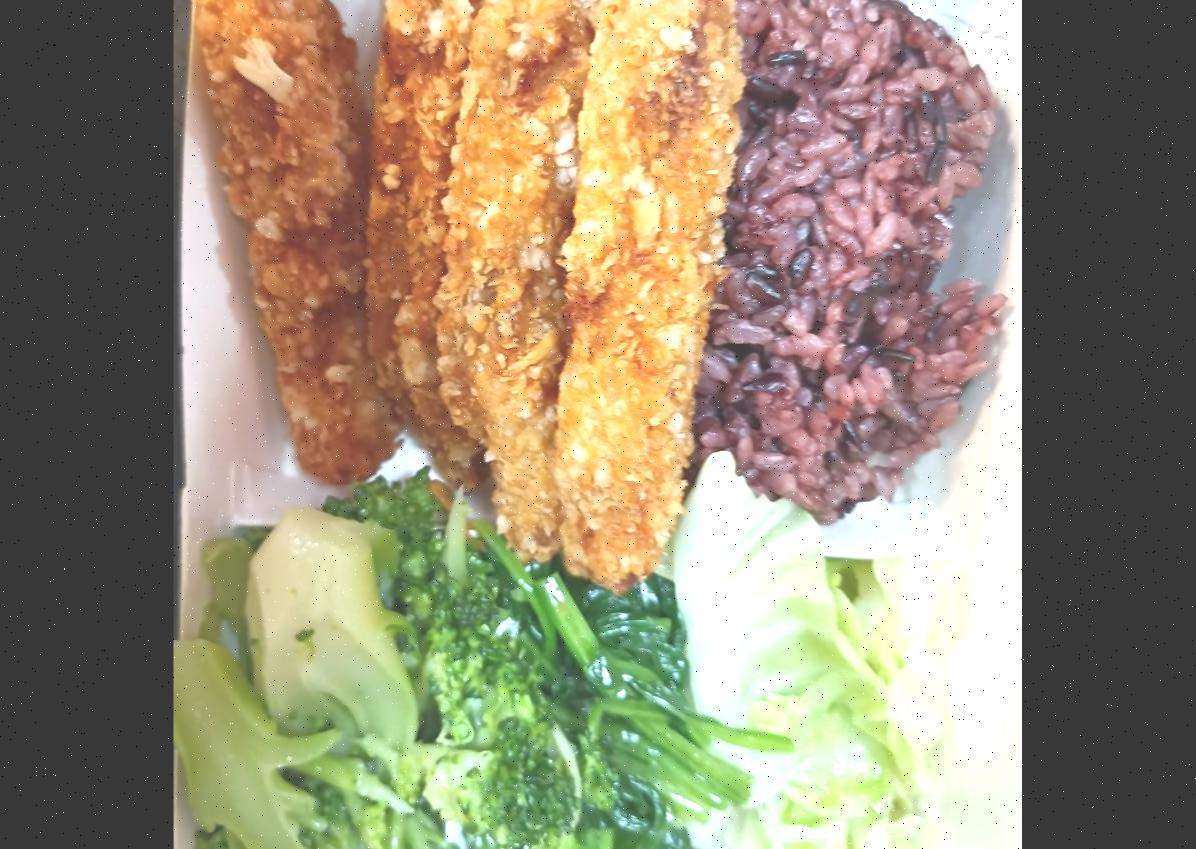box: (173, 0, 1022, 849)
fried spanish mackerel: (182, 0, 750, 589)
purple rice: (692, 0, 998, 525)
side dish: (177, 480, 572, 849), (676, 475, 940, 849), (568, 560, 716, 849)
